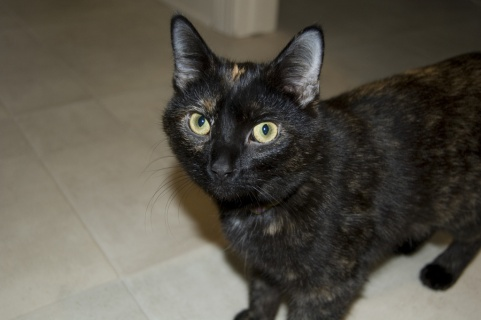Cat: (146, 14, 480, 320)
